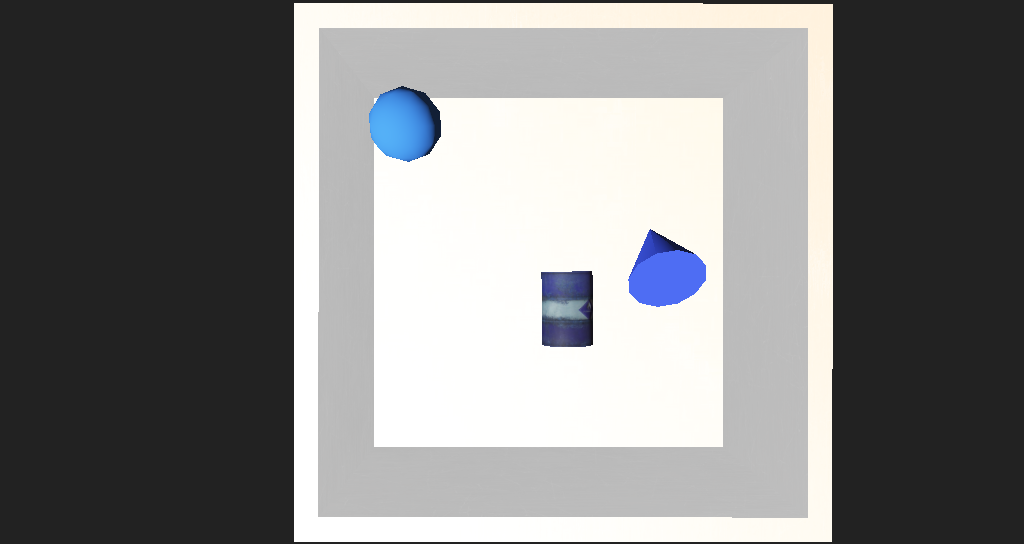cone: (502, 267, 549, 315)
cylinder: (559, 220, 640, 286)
sphere: (354, 160, 414, 203)
